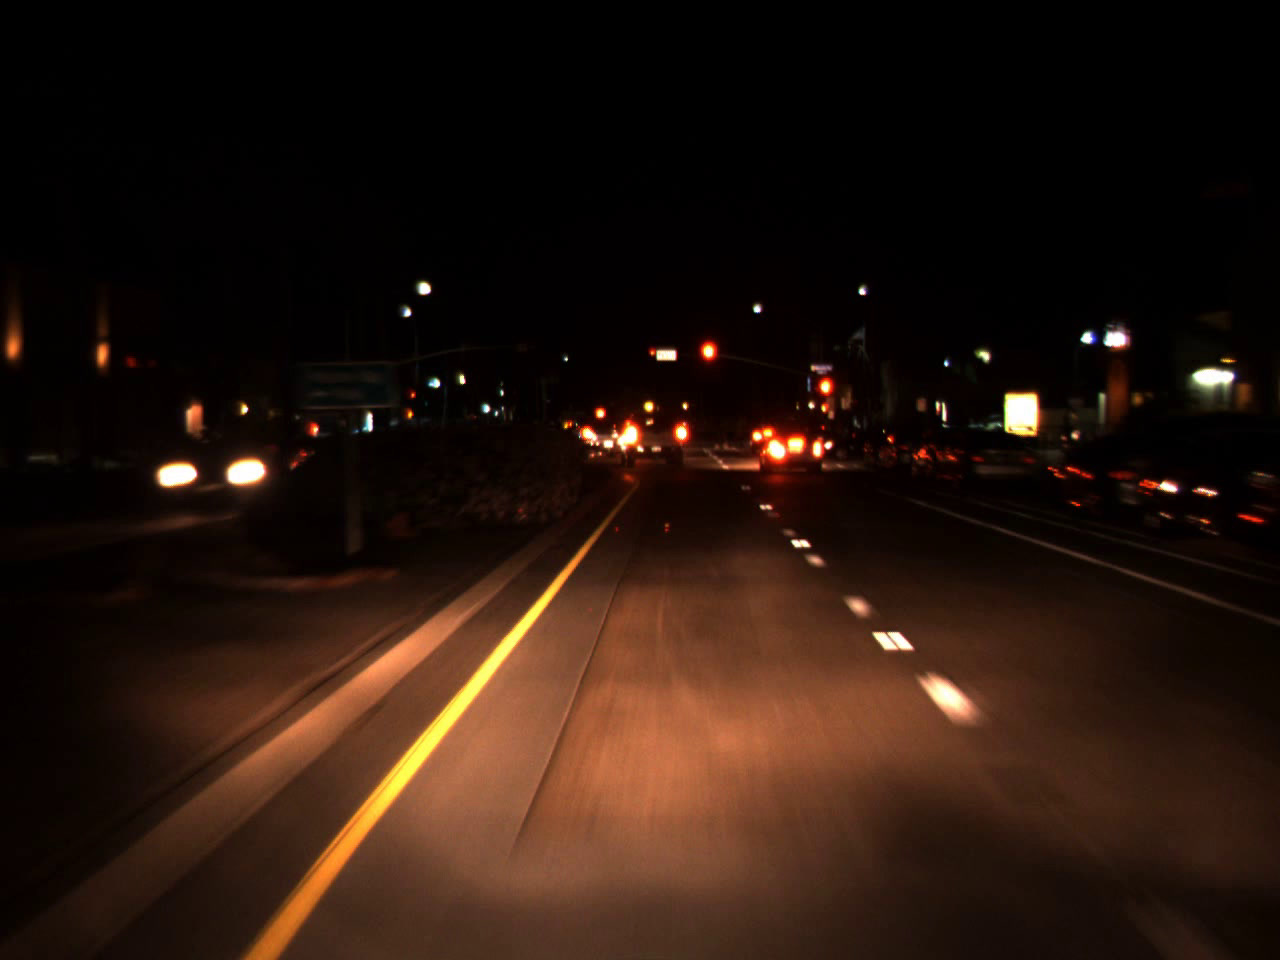stop: (697, 337, 719, 385), (815, 373, 836, 421), (408, 388, 417, 406), (650, 348, 656, 361)
